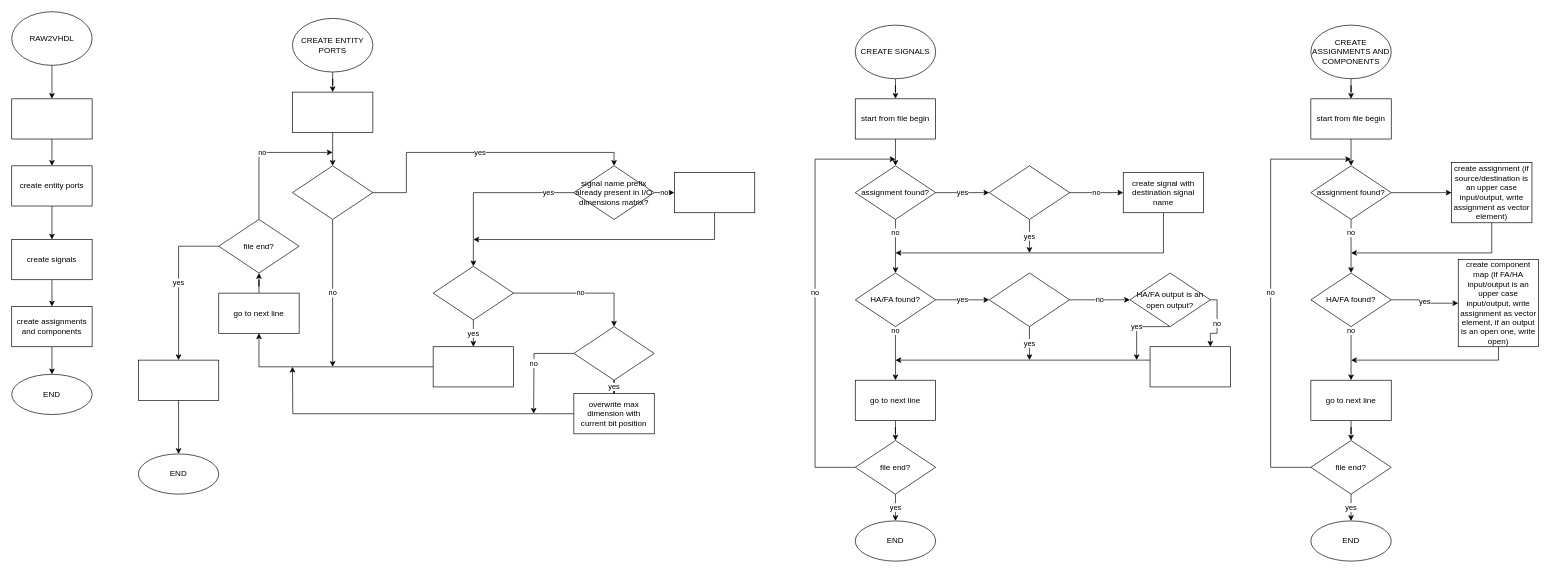
Some shapes in this 1550 by 573 pixel diagram are drawn without their labels. Each missing label, with the box of its shape:
create signal with HA/FA output name: (1149, 346, 1230, 387)
current bit position is greater than saved max dimension?: (573, 326, 654, 380)
destination signal is an output?: (989, 165, 1070, 219)
HA/FA output is an output?: (989, 272, 1070, 327)
I or O found?: (292, 165, 373, 219)
insert signal prefix in matrix: (674, 172, 755, 213)
open input file: (11, 98, 92, 139)
signal name is lower case?: (432, 266, 514, 320)
start from file begin, reset I/O matrix dimensions to 0: (292, 91, 373, 132)
write all std_logic_vector with dimensions saved: (138, 359, 219, 400)
write std_logic: (432, 346, 514, 387)
